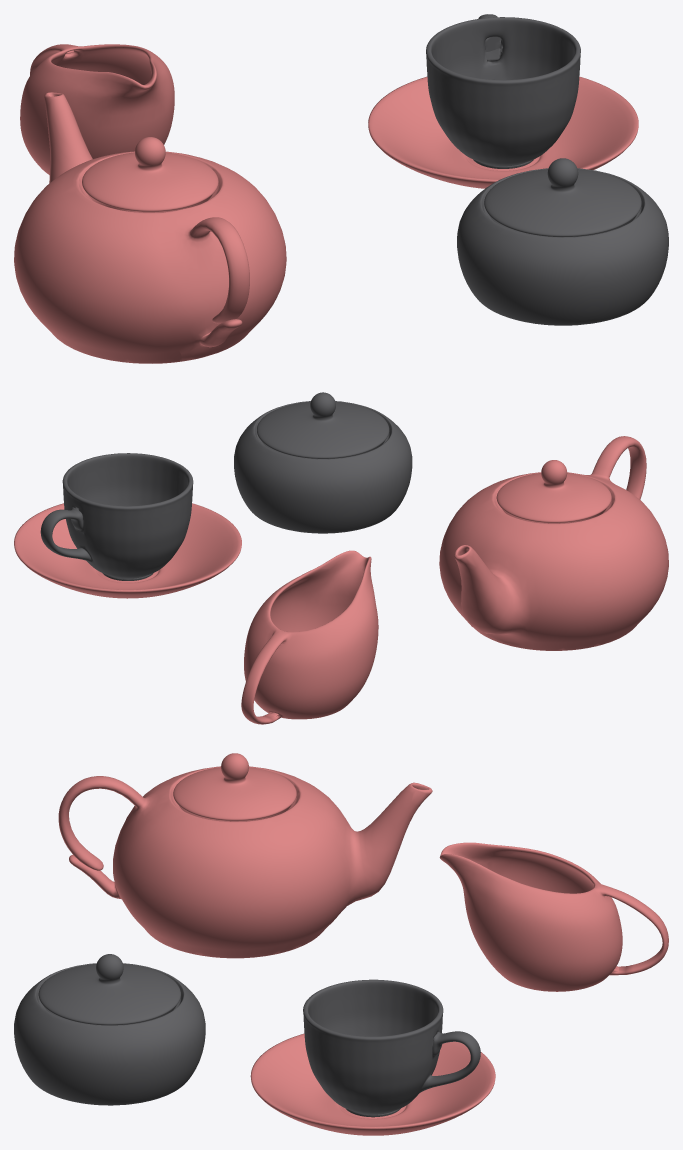
File: 17pcs-desk.glb
The picture shows the model from 3 angles, top to bottom: view 1: azimuth 30°, elevation 25°; view 2: azimuth 150°, elevation 25°; view 3: azimuth 270°, elevation 25°; orthographic projection. The views are drawn at different scales.
Visible parts, largest first — view 1: Cylinder.001, Circle.002, CUP, Cylinder.007, NAALBAKI, Sphere.014, Sphere.015; view 2: Cylinder.001, Cylinder.007, CUP, Circle.002, NAALBAKI, Sphere.014, Sphere.015; view 3: Cylinder.001, Cylinder.007, CUP, Circle.002, NAALBAKI, Sphere.014, Sphere.015.
Boxes of the visible parts, bbox=[...] form: Cylinder.001: bbox=[14, 92, 286, 363]; Circle.002: bbox=[457, 168, 668, 325]; CUP: bbox=[426, 14, 580, 168]; Cylinder.007: bbox=[20, 44, 174, 174]; NAALBAKI: bbox=[368, 76, 638, 188]; Sphere.014: bbox=[484, 158, 641, 236]; Sphere.015: bbox=[82, 137, 218, 211]; Cylinder.001: bbox=[439, 436, 668, 650]; Cylinder.007: bbox=[241, 550, 378, 724]; CUP: bbox=[40, 453, 193, 580]; Circle.002: bbox=[234, 401, 412, 533]; NAALBAKI: bbox=[14, 503, 241, 598]; Sphere.014: bbox=[257, 392, 389, 458]; Sphere.015: bbox=[496, 460, 611, 522]; Cylinder.001: bbox=[58, 766, 432, 958]; Cylinder.007: bbox=[439, 842, 668, 991]; CUP: bbox=[303, 979, 480, 1117]; Circle.002: bbox=[14, 963, 205, 1105]; NAALBAKI: bbox=[250, 1033, 495, 1135]; Sphere.014: bbox=[38, 954, 180, 1025]; Sphere.015: bbox=[173, 753, 296, 820].
Bounding box in the file's own units: 0.3984 × 0.1057 × 0.3758.
